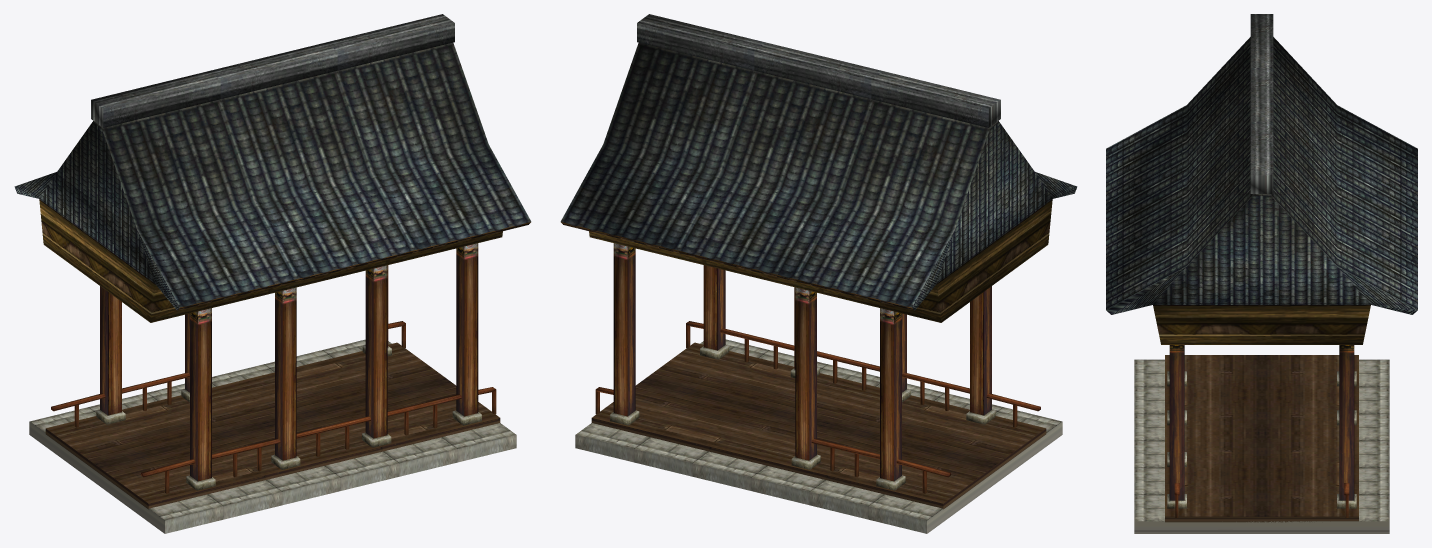
File: b-general_external02.fbx
3 renders of one model, left to right at view 1: azimuth 30°, elevation 25°; view 2: azimuth 150°, elevation 25°; view 3: azimuth 270°, elevation 25°, orthographic. The views are drawn at different scales.
Parts seen in each view (by area): view 1: B-general_external01; view 2: B-general_external01; view 3: B-general_external01.
Part boxes in pixels (x1,y1,x2,y2): B-general_external01: (14, 14, 531, 533); B-general_external01: (560, 14, 1077, 533); B-general_external01: (1106, 14, 1417, 533).
Bounding box in the file's own units: 18.07 × 18.59 × 14.65.
